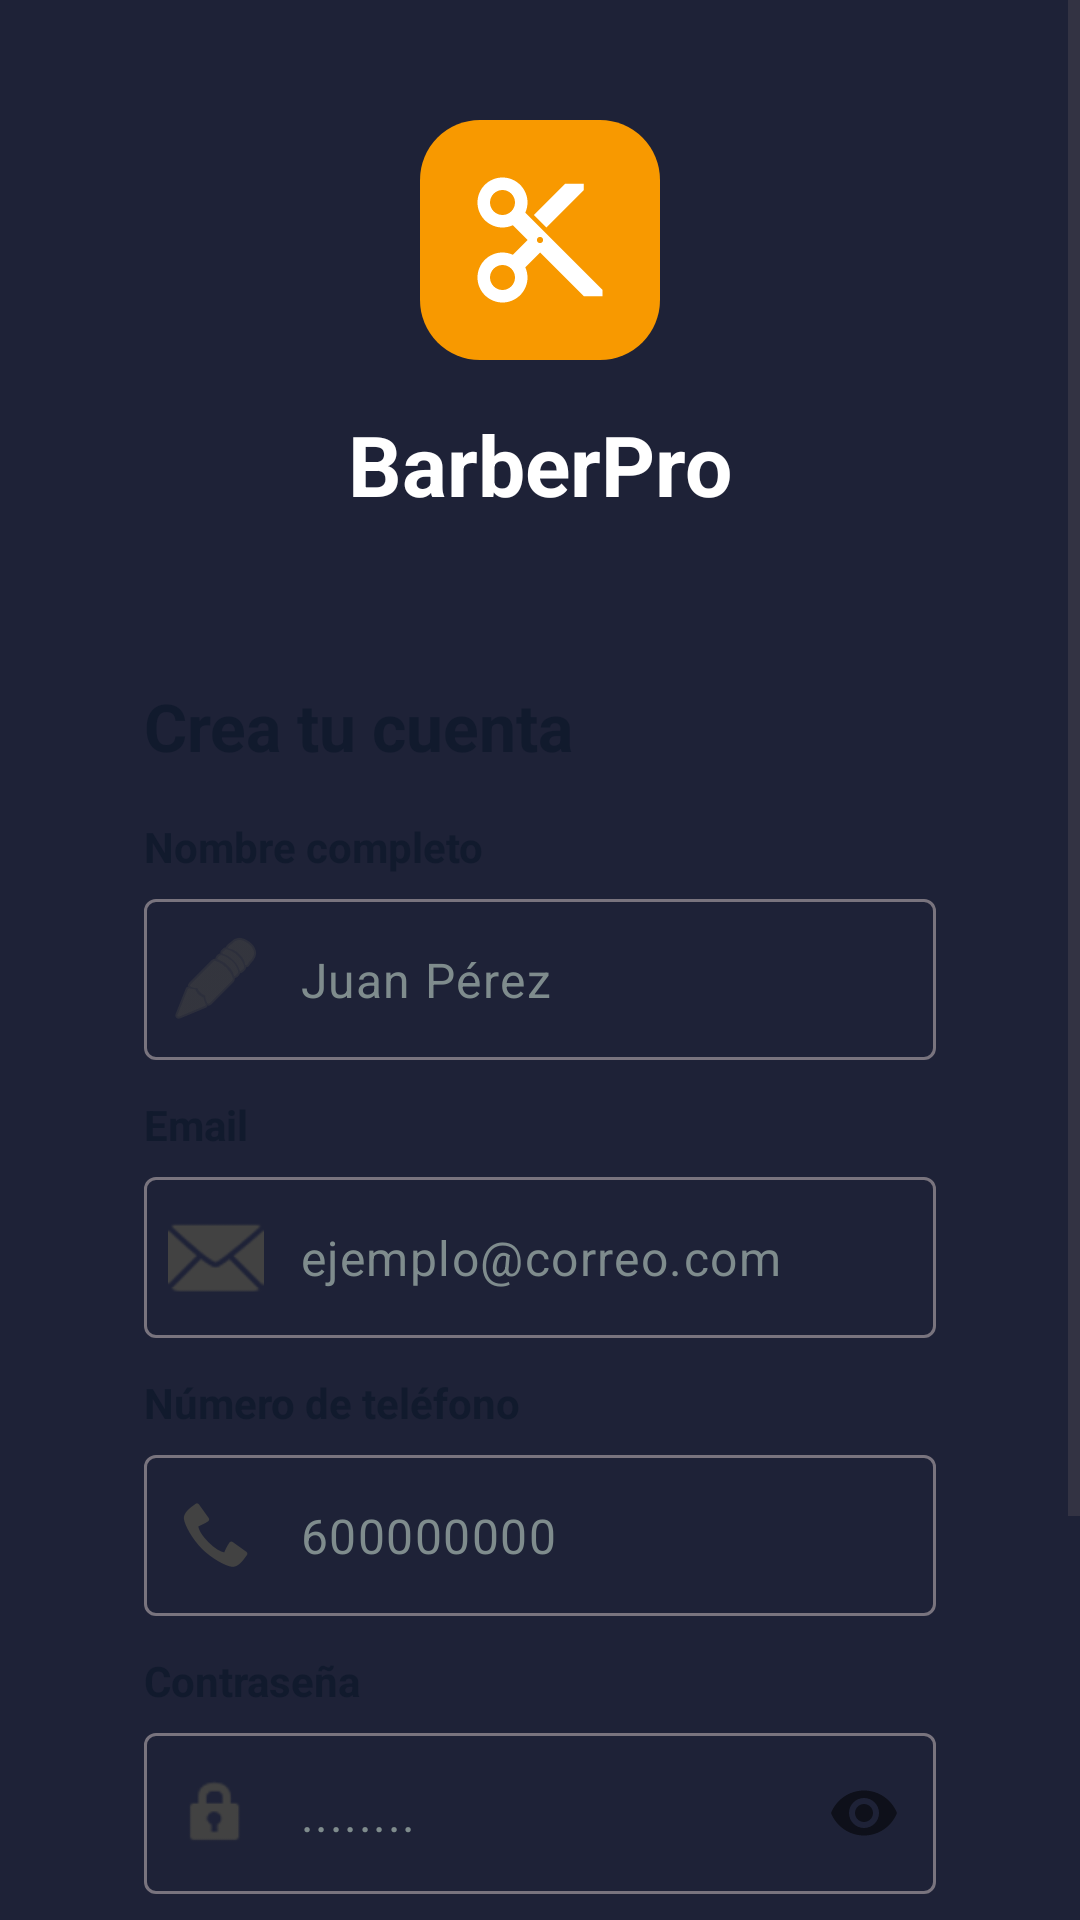

Where to tap for icons on this 1080*1920 app screen, as point (x, y):
cut: point (540, 240)
